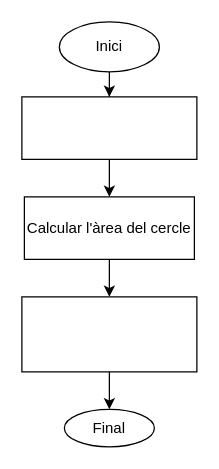
The diagram is 219 pixels wide and 469 high, and some of its shapes have lost their labels. Each missing label, with the box of its shape:
Llegir de l'usuari el radi del cercle: (21, 96, 197, 159)
Mostrar el resultat a l'usuari: (21, 296, 197, 372)
